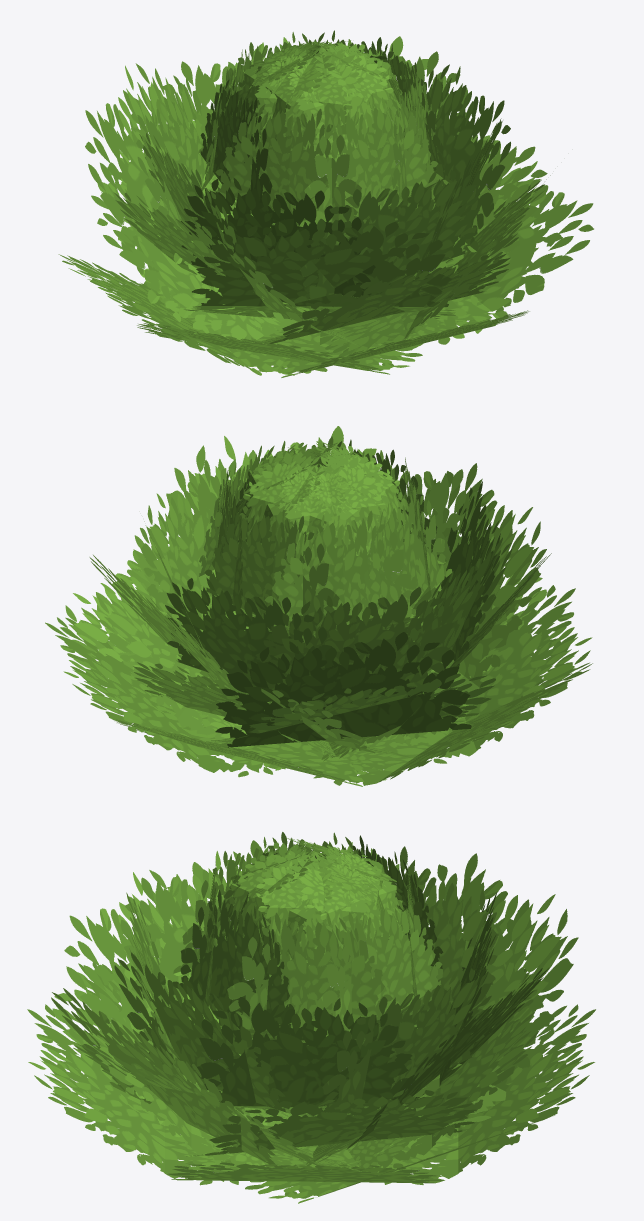
File: Bush.fbx
3 views of the same model, one above another, from view 1: azimuth 30°, elevation 25°; view 2: azimuth 150°, elevation 25°; view 3: azimuth 270°, elevation 25° (orthographic). The views are drawn at different scales.
Visible parts, largest first — view 1: Back; view 2: Back; view 3: Back.
Part boxes in pixels (x1=…): Back: x1=58, y1=30, x2=593, y2=377; Back: x1=45, y1=426, x2=592, y2=786; Back: x1=27, y1=832, x2=595, y2=1203.
Bounding box in the file's own units: 437 × 220 × 420.
Materials: 24 (24 with a texture image).
